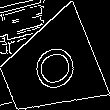O_SW: (21, 38, 79, 98)
